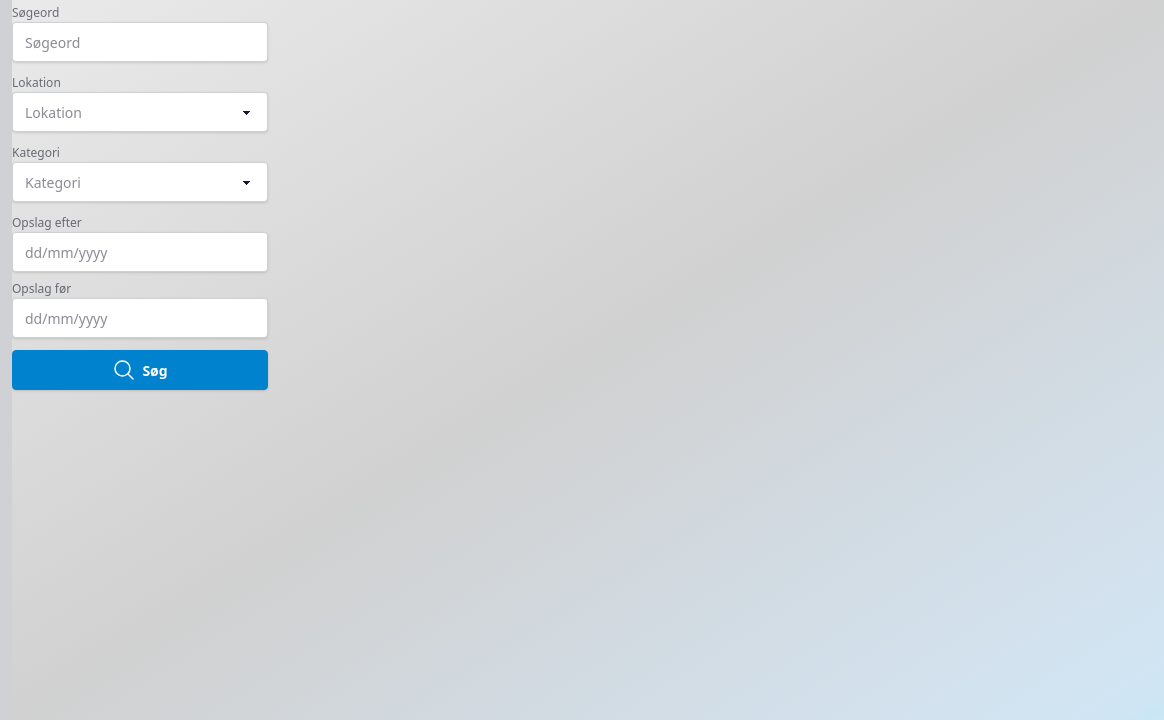
Scenario: SearchForm suggestions › filters categories and accepts keyboard navigation
Type "Mar" into the field with placeholder "Kategori". click: (140, 182)
box: [12, 162, 268, 202]
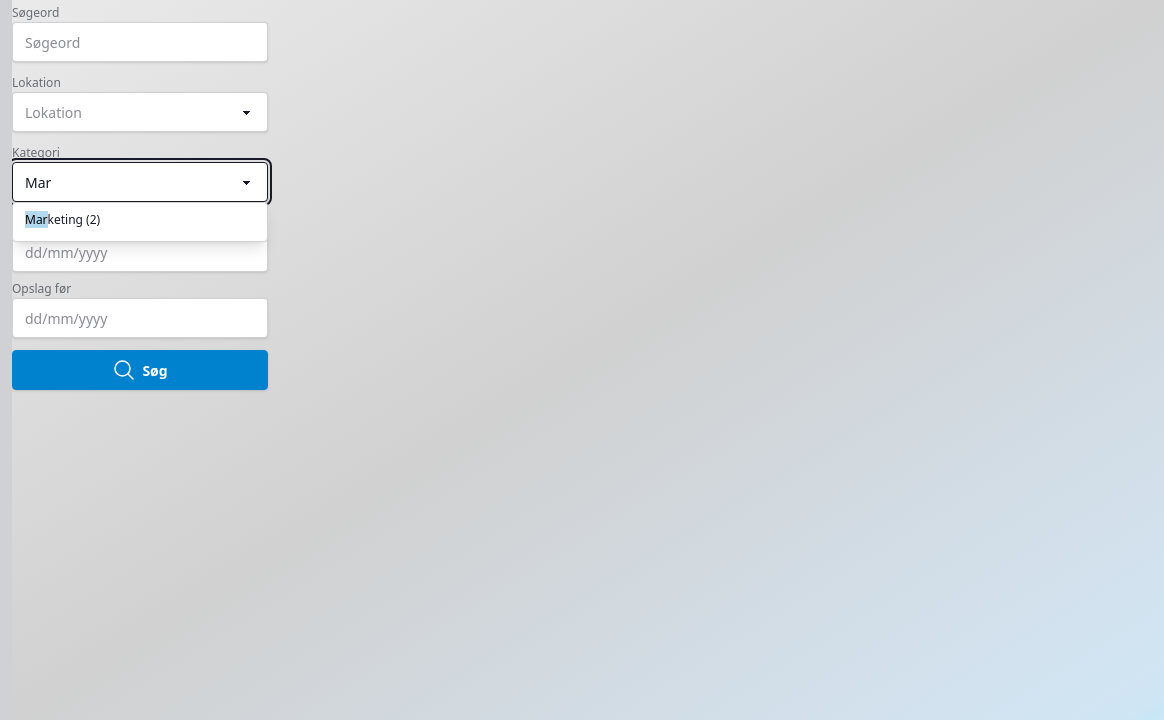
Check: the button with aria-label "Vælg kategori Marketing" is shown, box [13, 203, 267, 237]
Press Arrowdown Enter
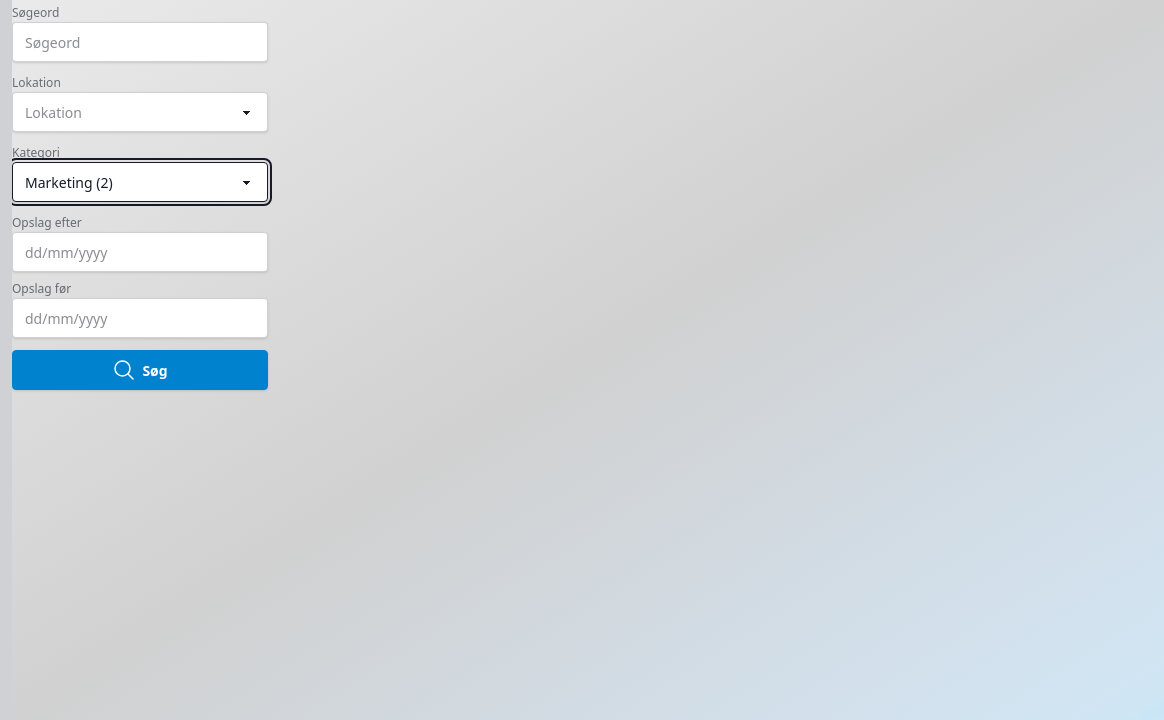
Check: the field with placeholder "Kategori" holds "Marketing (2)", box [12, 162, 268, 202]
